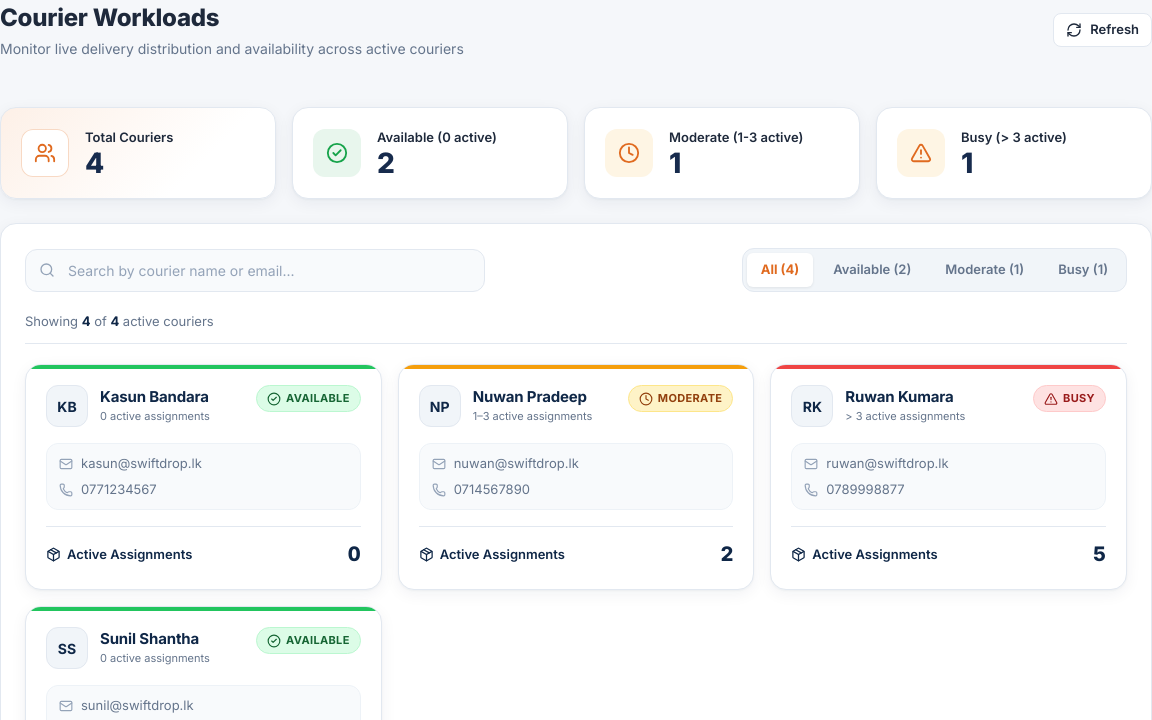
Courier Workload Page & WorkloadCard - Component Tests › 6. Filters couriers by name and email via search input
Expected: the heading "Kasun Bandara" is shown, [100, 388, 210, 406]
# Search by name
In the field named "Search couriers": (255, 270) [25, 248, 485, 292], type "nuwan"
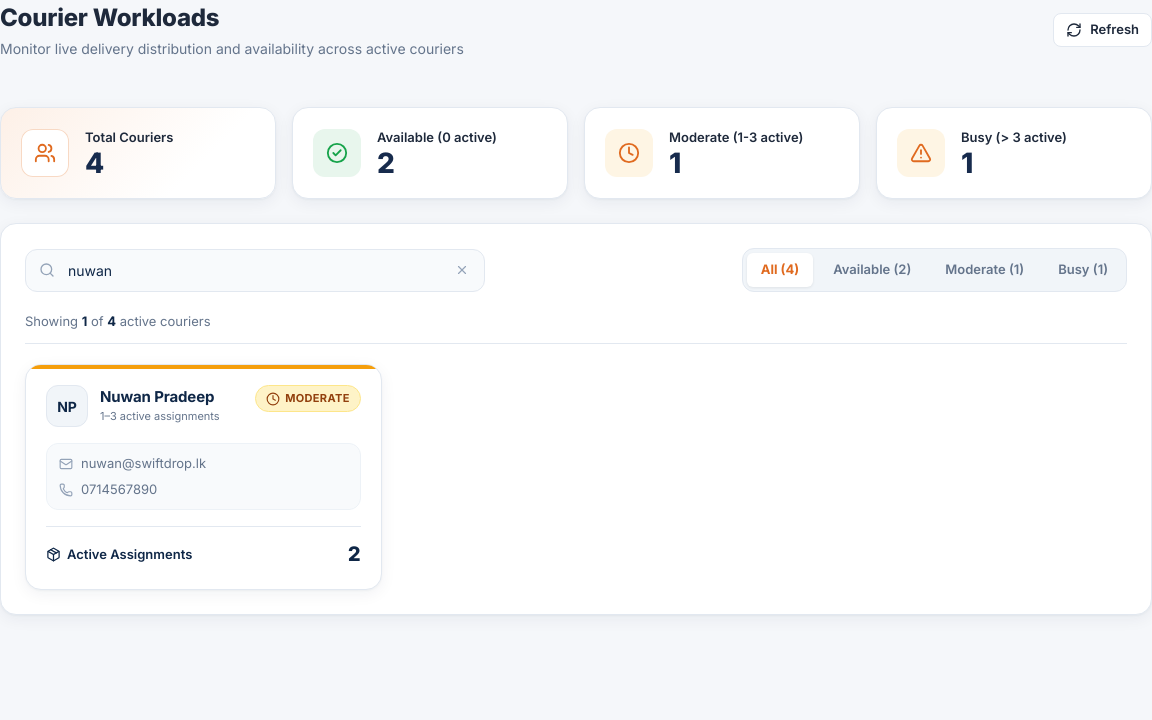
Expected: the heading "Kasun Bandara" is gone
Expected: the heading "Ruwan Kumara" is gone
Expected: the element with test id "results-info" reads "Showing 1 of 4 active couriers", [25, 312, 1127, 344]
# Search by email
Replace the text in the field named "Search couriers" with "ruwan@swiftdrop.lk": (255, 270) [25, 248, 485, 292]
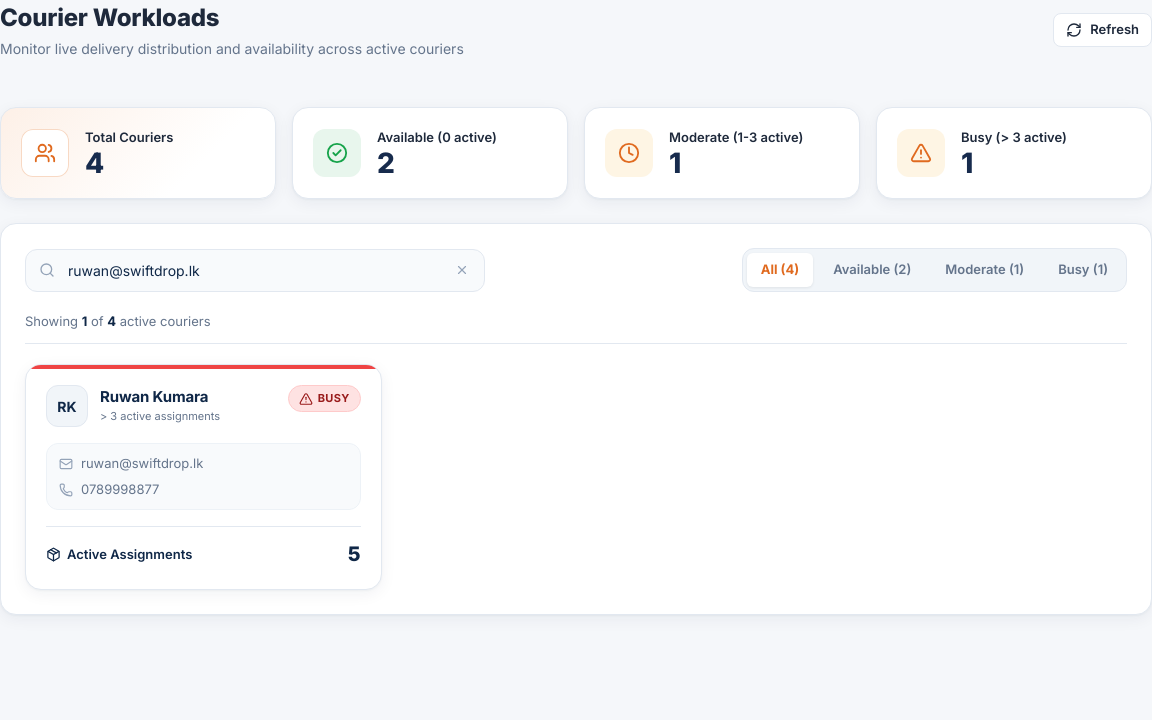
Expected: the heading "Ruwan Kumara" is shown, [100, 388, 220, 406]
Expected: the heading "Nuwan Pradeep" is gone
# Clear search
Click the button named "Clear search": (462, 270) [451, 259, 473, 281]
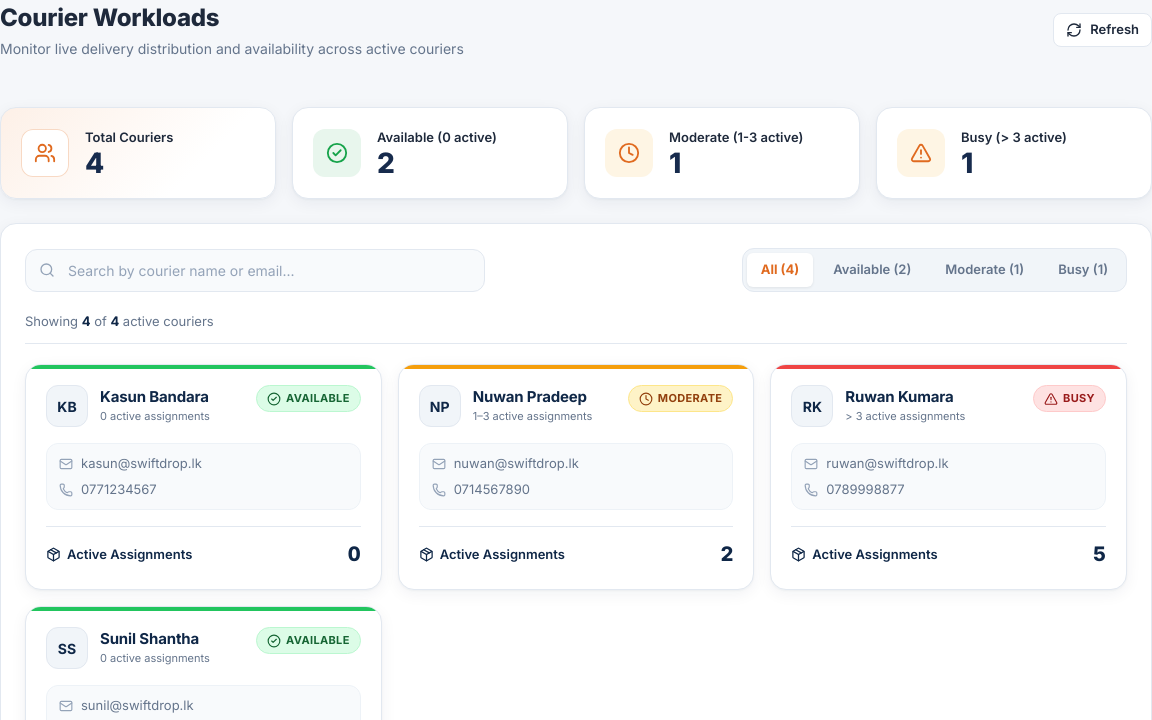
Expected: the heading "Kasun Bandara" is shown, [100, 388, 210, 406]
Expected: the heading "Nuwan Pradeep" is shown, [473, 388, 592, 406]
